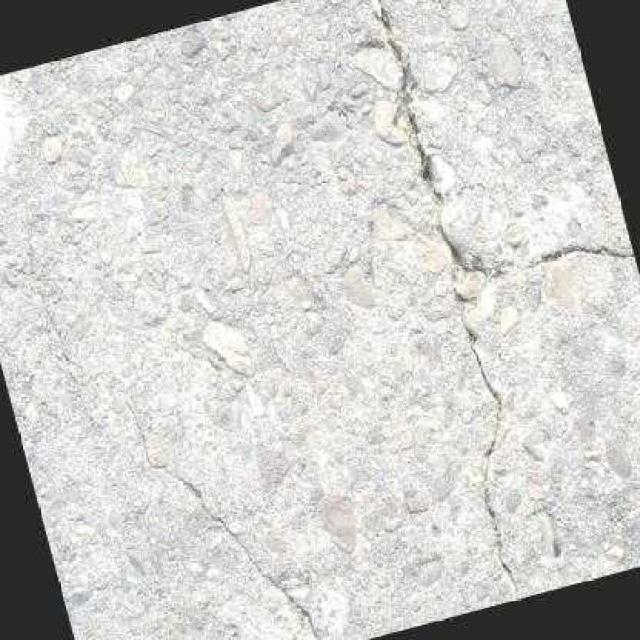D00: (369, 0, 636, 279), (164, 463, 322, 640), (466, 346, 522, 601)
